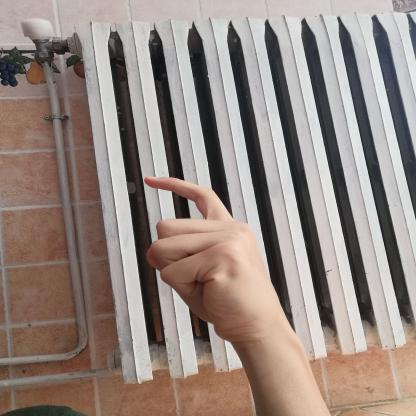RAA: (131, 167, 289, 346)
